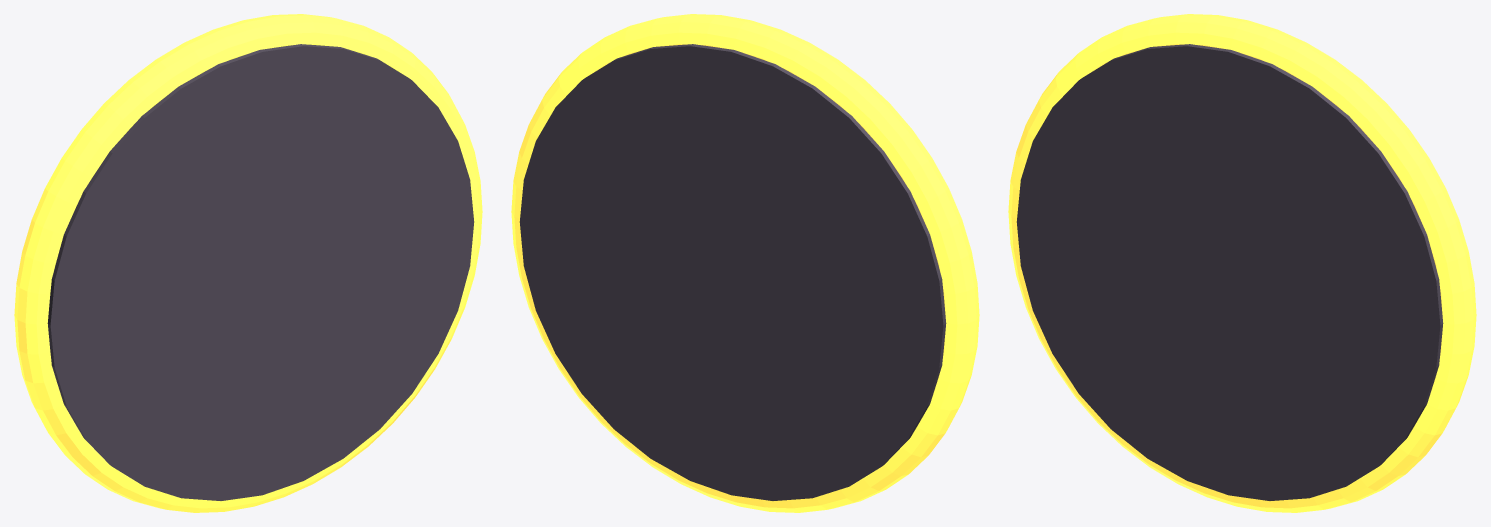
Rendered from shield_basalt_buckler.glb.
3 views of the same model, side by side, from view 1: azimuth 30°, elevation 25°; view 2: azimuth 150°, elevation 25°; view 3: azimuth 330°, elevation 25° (orthographic).
Parts seen in each view (by area): view 1: Cylinder, Torus; view 2: Cylinder, Torus; view 3: Cylinder, Torus.
Part boxes in pixels (bbox=[...]): Cylinder: bbox=[47, 44, 474, 500]; Torus: bbox=[14, 14, 482, 512]; Cylinder: bbox=[519, 44, 946, 500]; Torus: bbox=[511, 14, 979, 512]; Cylinder: bbox=[1016, 44, 1443, 500]; Torus: bbox=[1008, 14, 1476, 512].
Bounding box in the file's own units: 0.48 × 0.48 × 0.05.
